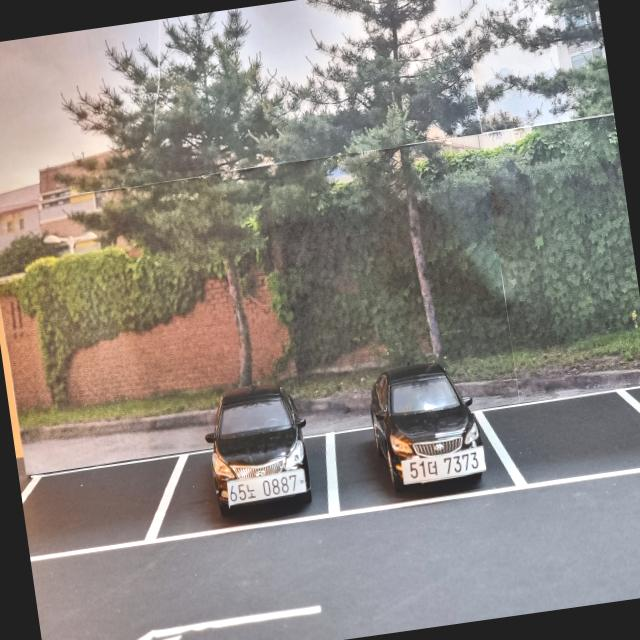car: (344, 344, 489, 509), (195, 368, 326, 532)
free: (473, 379, 640, 503), (18, 451, 194, 562)
